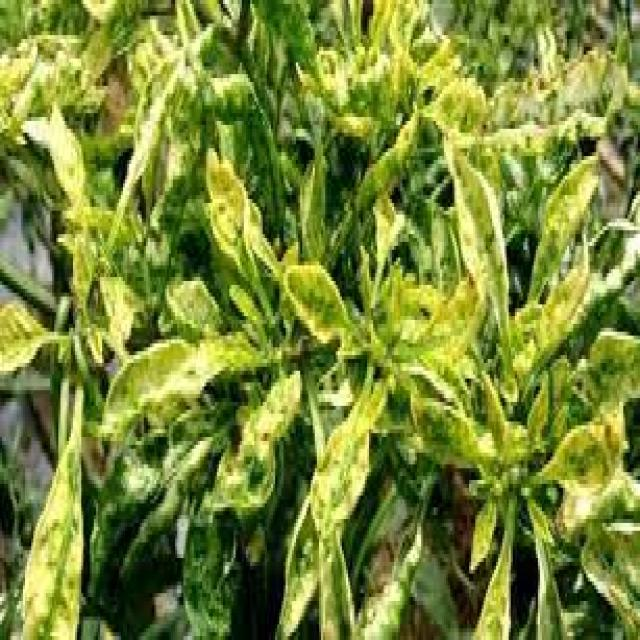virus_kuning: (439, 128, 523, 348), (103, 334, 234, 446), (280, 249, 352, 346)
